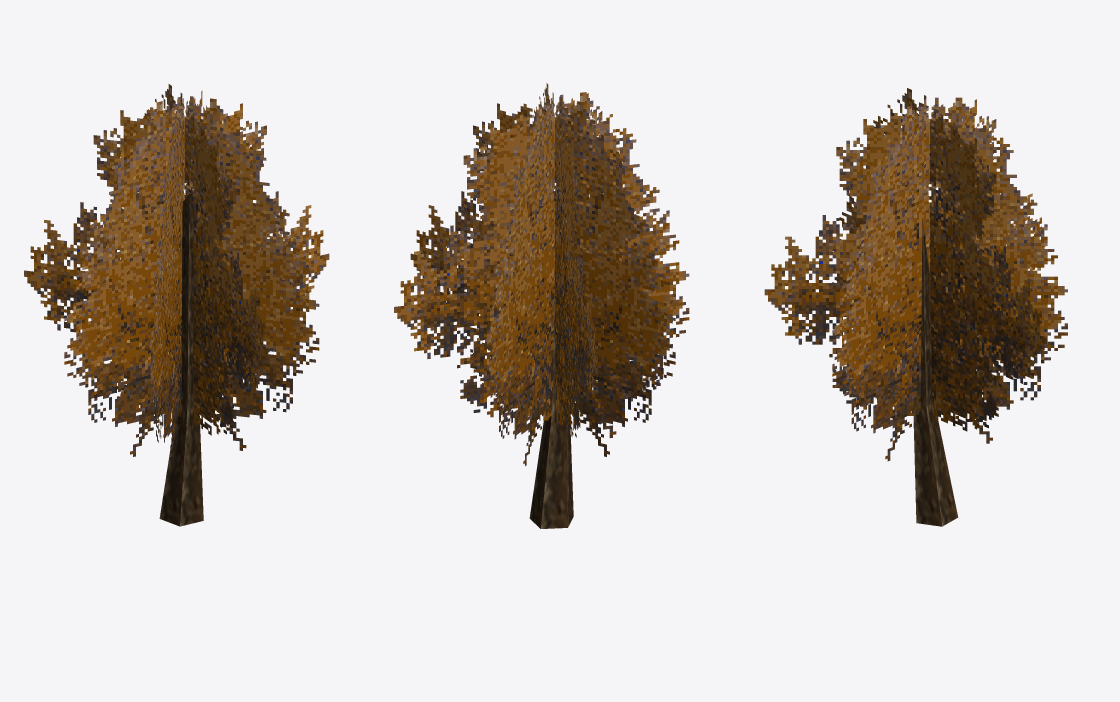
File: tree_6.glb
The picture shows the model from 3 angles, left to right: view 1: azimuth 30°, elevation 25°; view 2: azimuth 150°, elevation 25°; view 3: azimuth 270°, elevation 25°; orthographic projection.
Visible parts, largest first — view 1: Ps1Tree6Texture.003, Ps1Tree6Texture.001, Ps1Tree6Texture, Ps1Tree6Texture.002, Trunk.005; view 2: Ps1Tree6Texture.001, Ps1Tree6Texture.002, Ps1Tree6Texture, Ps1Tree6Texture.003, Trunk.005; view 3: Ps1Tree6Texture, Ps1Tree6Texture.002, Ps1Tree6Texture.003, Trunk.005.
Part boxes in pixels (left/top/right/bottom): Ps1Tree6Texture.003: left=24, top=96, right=319, bottom=450; Ps1Tree6Texture.001: left=64, top=96, right=329, bottom=456; Ps1Tree6Texture: left=121, top=84, right=268, bottom=435; Ps1Tree6Texture.002: left=149, top=90, right=226, bottom=468; Trunk.005: left=159, top=193, right=203, bottom=526; Ps1Tree6Texture.001: left=410, top=96, right=675, bottom=456; Ps1Tree6Texture.002: left=394, top=92, right=689, bottom=437; Ps1Tree6Texture: left=485, top=93, right=634, bottom=465; Ps1Tree6Texture.003: left=533, top=83, right=597, bottom=437; Trunk.005: left=529, top=190, right=573, bottom=528; Ps1Tree6Texture: left=764, top=97, right=1067, bottom=443; Ps1Tree6Texture.002: left=832, top=88, right=1046, bottom=431; Ps1Tree6Texture.003: left=832, top=99, right=1045, bottom=461; Trunk.005: left=913, top=191, right=958, bottom=526.
Bounding box in the file's own units: 1.2 × 1.98 × 1.2.
2 materials, 2 textured.
